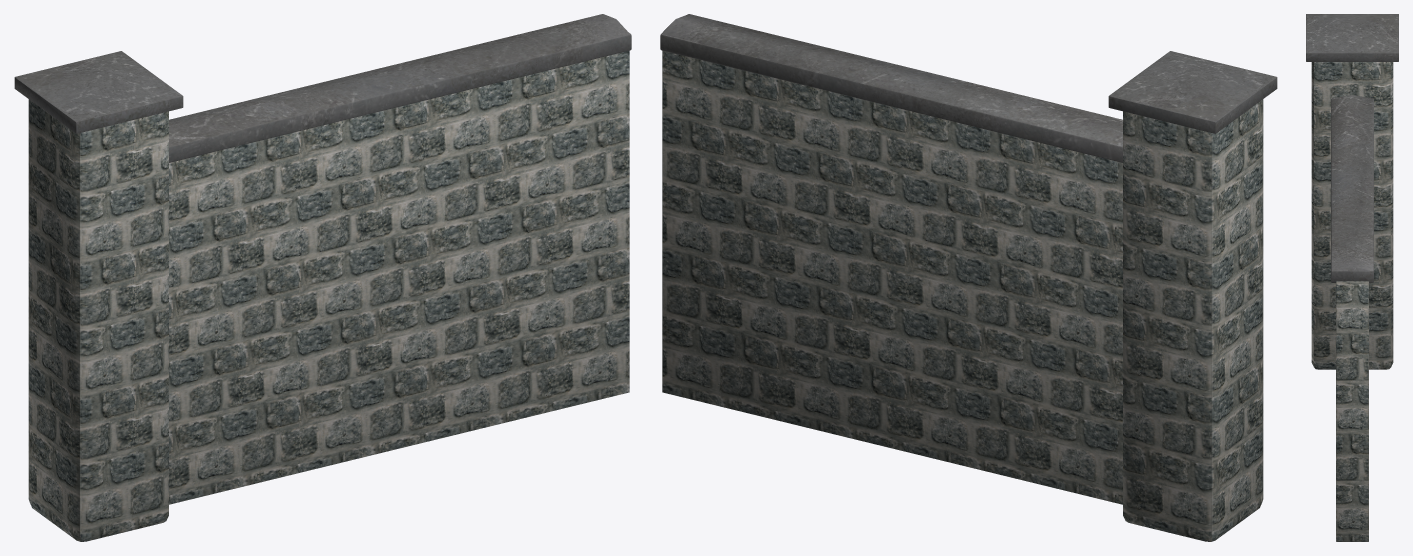
The model's file is wall.glb.
3 renders of one model, left to right at view 1: azimuth 30°, elevation 25°; view 2: azimuth 150°, elevation 25°; view 3: azimuth 270°, elevation 25°, orthographic. The views are drawn at different scales.
Parts seen in each view (by area): view 1: span_cap1; view 2: span_cap1; view 3: span_cap1.
Boxes of the visible parts, bbox=[...] form: span_cap1: bbox=[14, 14, 631, 541]; span_cap1: bbox=[660, 14, 1277, 541]; span_cap1: bbox=[1306, 14, 1398, 541].
Bounding box in the file's own units: 3.87 × 2.84 × 0.7225.
Materials: 1 (1 with a texture image).
